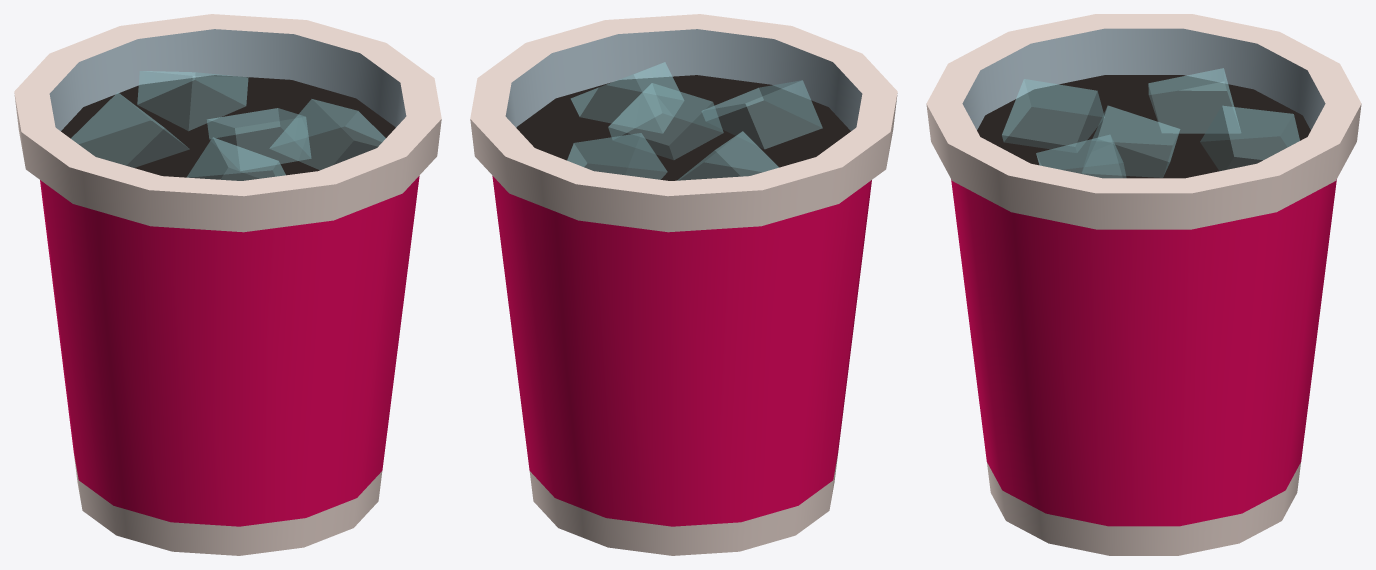
Rendered from Cola_geo.fbx.
The picture shows the model from 3 angles, left to right: view 1: azimuth 30°, elevation 25°; view 2: azimuth 150°, elevation 25°; view 3: azimuth 270°, elevation 25°; orthographic projection.
Visible parts, largest first — view 1: Cola_geo; view 2: Cola_geo; view 3: Cola_geo.
Boxes of the visible parts, x1=… form: Cola_geo: x1=14, y1=14, x2=441, y2=555; Cola_geo: x1=470, y1=14, x2=897, y2=555; Cola_geo: x1=926, y1=14, x2=1361, y2=555.
Size of the model in its own units: 0.4294 by 0.4405 by 0.4371.
